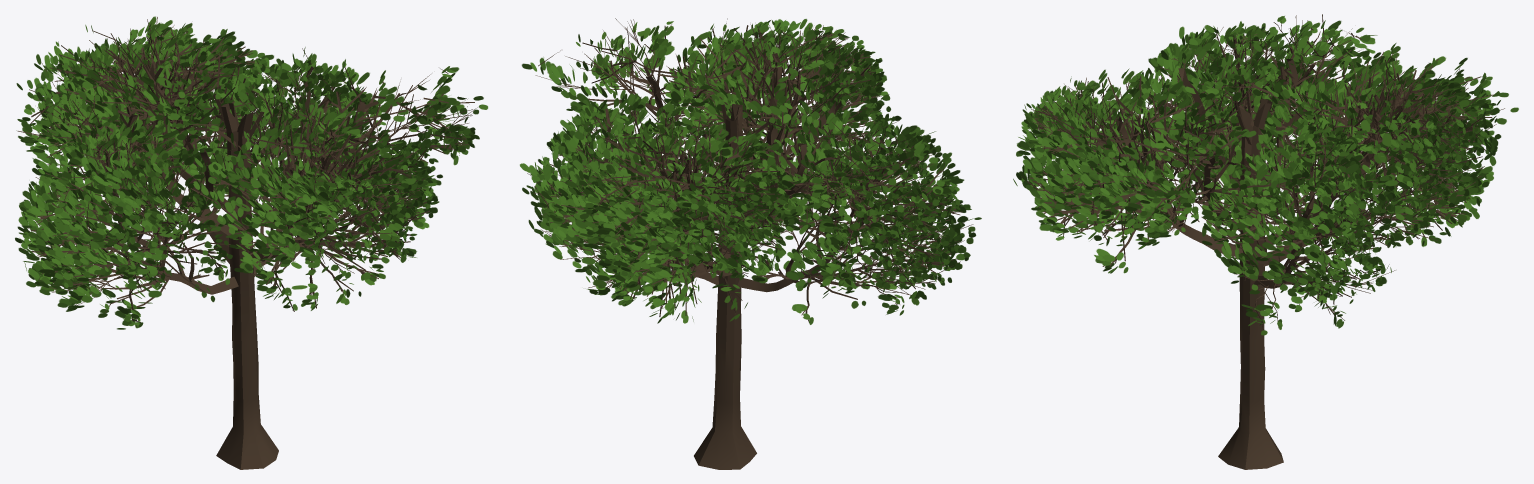
3 views of the same model, side by side, from view 1: azimuth 30°, elevation 25°; view 2: azimuth 150°, elevation 25°; view 3: azimuth 270°, elevation 25° (orthographic).
Parts seen in each view (by area): view 1: oak 01.001_trunk_Mat.001_0.052; view 2: oak 01.001_trunk_Mat.001_0.052; view 3: oak 01.001_trunk_Mat.001_0.052.
Part boxes in pixels (<box>): oak 01.001_trunk_Mat.001_0.052: <box>15,16,488,469</box>; oak 01.001_trunk_Mat.001_0.052: <box>520,18,981,469</box>; oak 01.001_trunk_Mat.001_0.052: <box>1013,14,1518,469</box>.
Size of the model in its own units: 4.28 by 3.39 by 4.24.
Materials: 2 (1 with a texture image).
